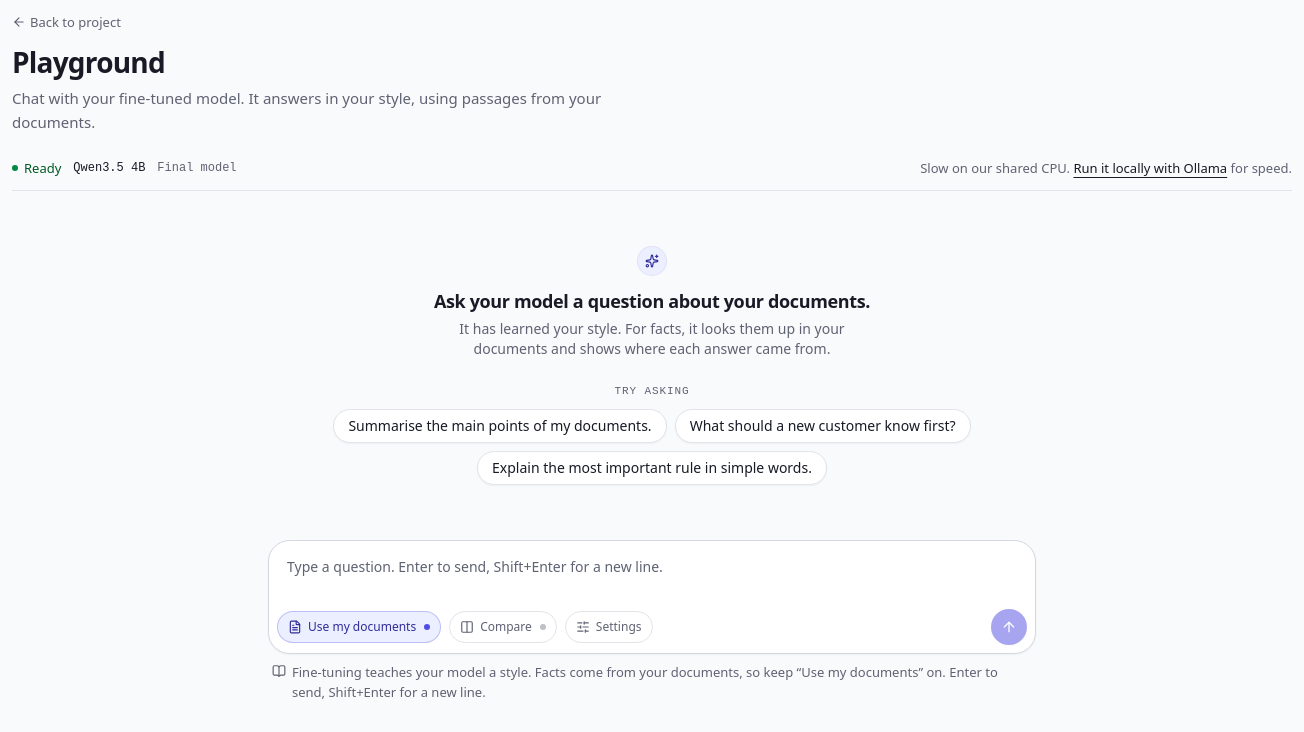
Scenario: PlaygroundPage › stop aborts the request and keeps the partial answer
This screenshot has width=1304, height=732.
In the text box named "Your message": (652, 577) [277, 549, 1027, 605], type "Hello"
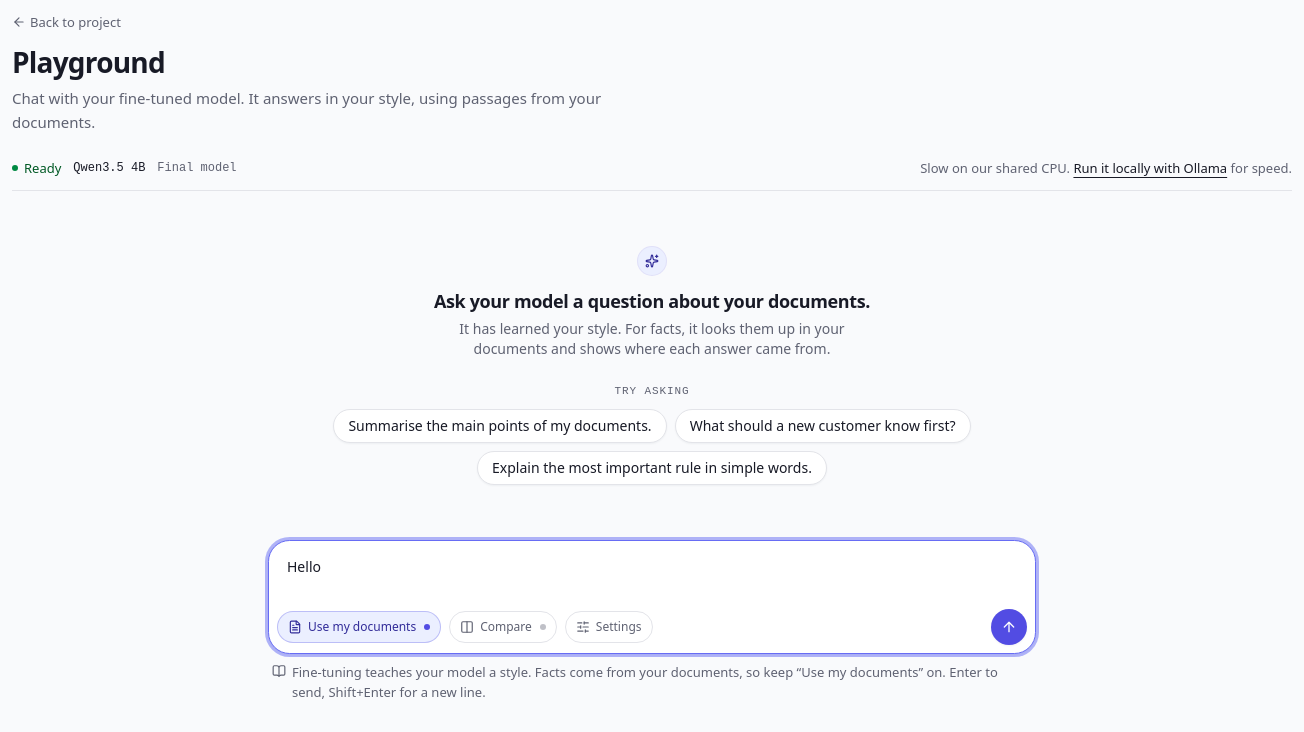
Click the button named "Send": (1009, 627) [991, 609, 1027, 645]
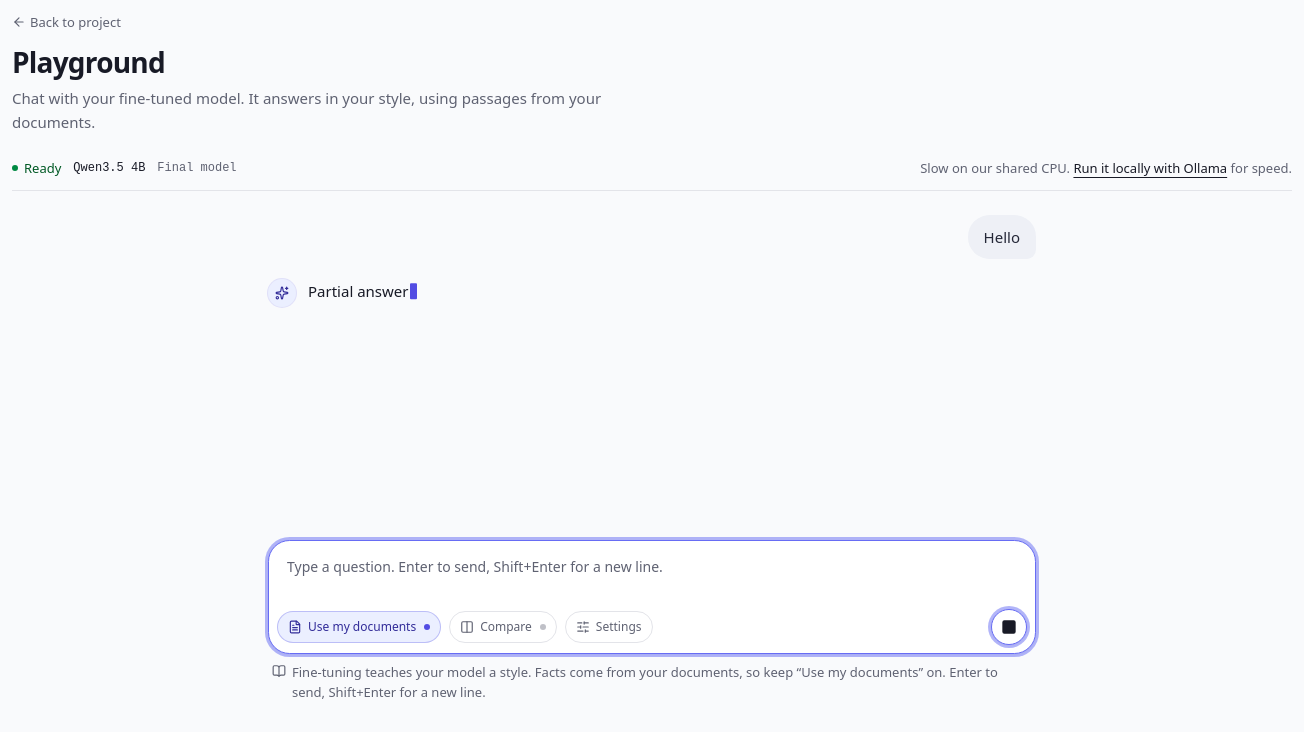
Click the button named "Stop": (1009, 627) [991, 609, 1027, 645]
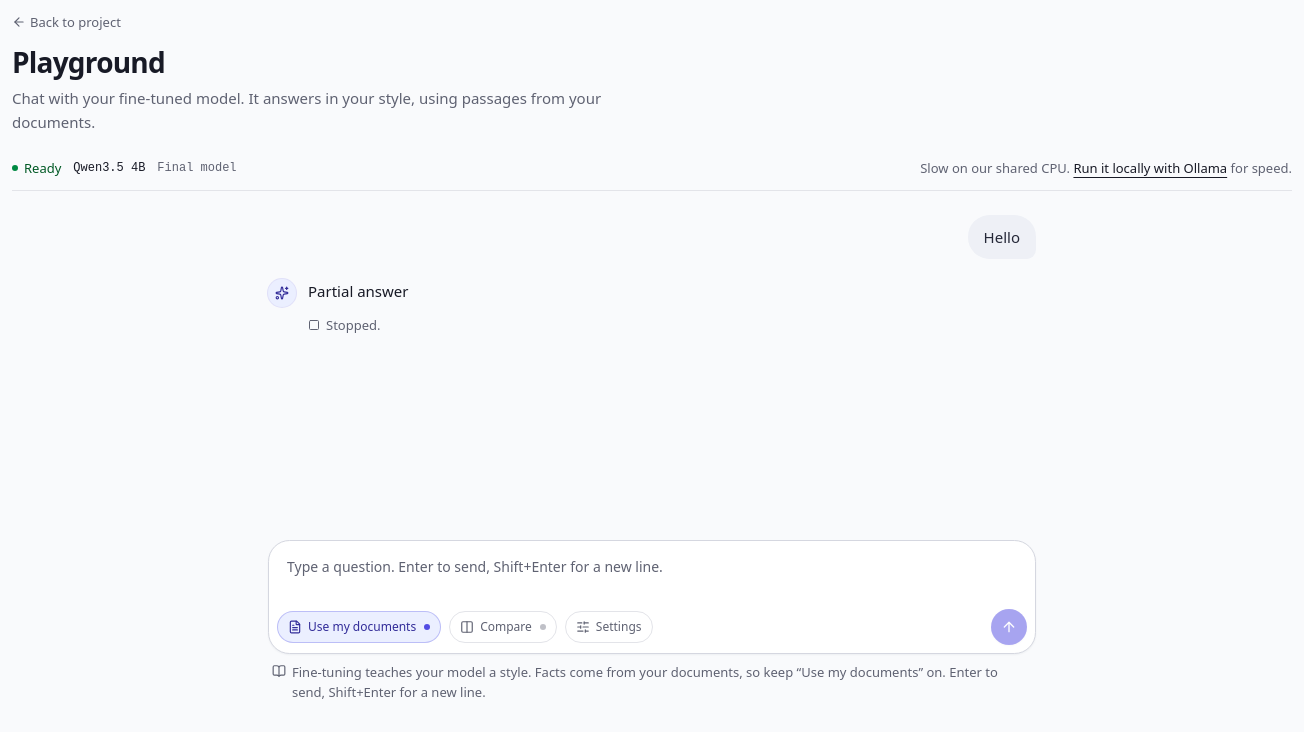
Now the text "Partial answer" is shown, box [308, 281, 408, 301]
Now the text "Stopped." is shown, box [308, 316, 380, 334]
Now the button named "Send" is shown, box [991, 609, 1027, 645]
